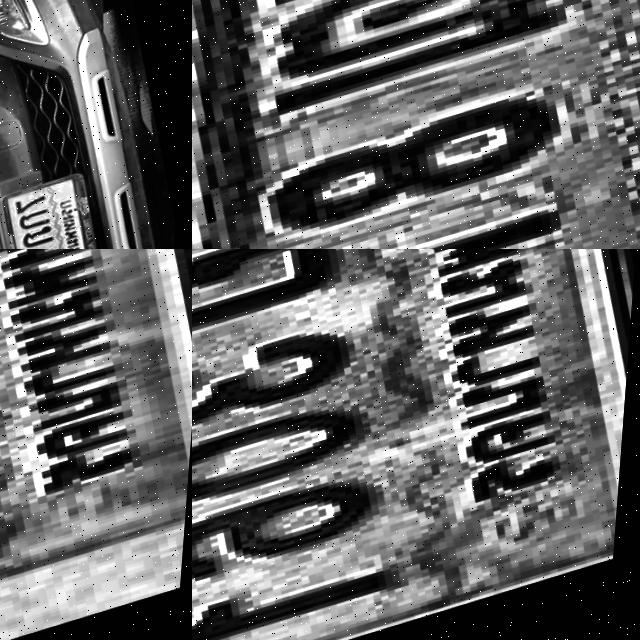license-plate: (192, 249, 640, 640), (192, 0, 640, 249), (0, 249, 192, 640), (0, 174, 120, 249)
